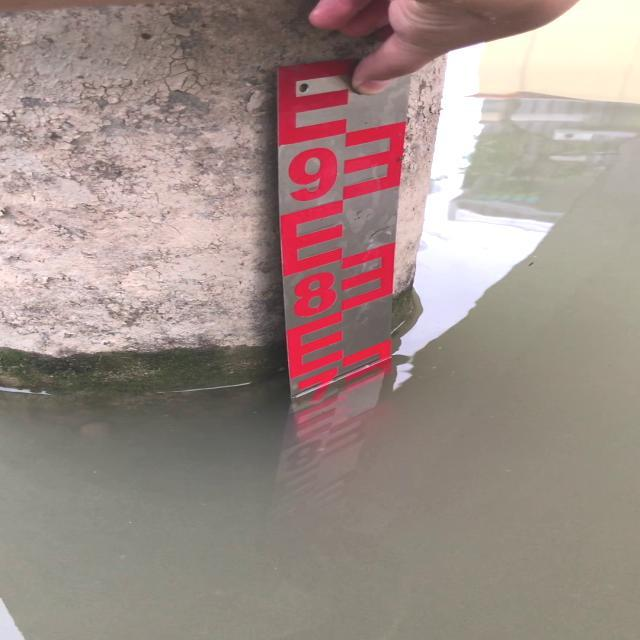ruler: (267, 47, 424, 406)
value: (278, 138, 344, 207), (288, 268, 344, 325)
